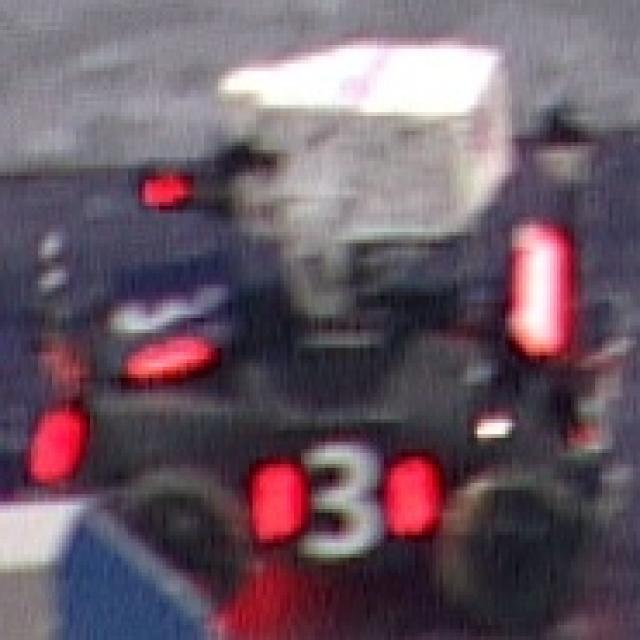R3: (226, 421, 452, 575), (94, 256, 228, 388)
